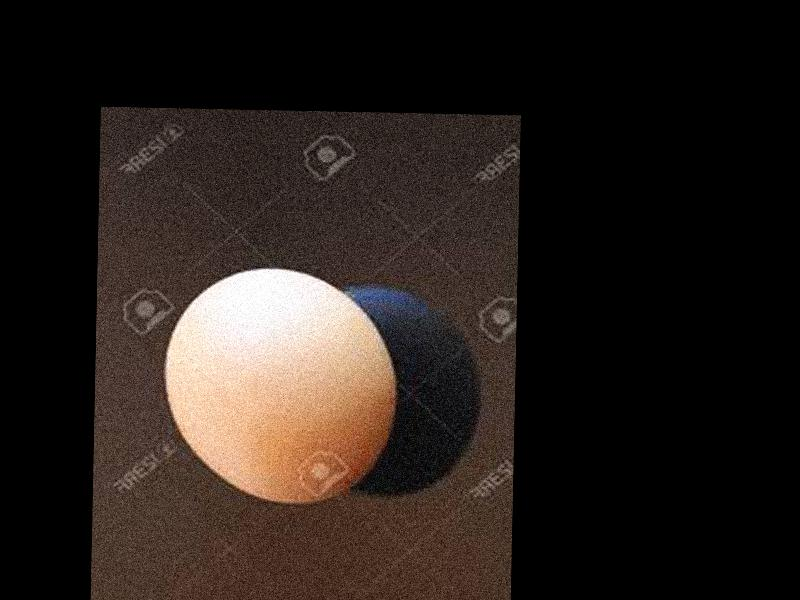Eggs: (161, 265, 400, 504)
